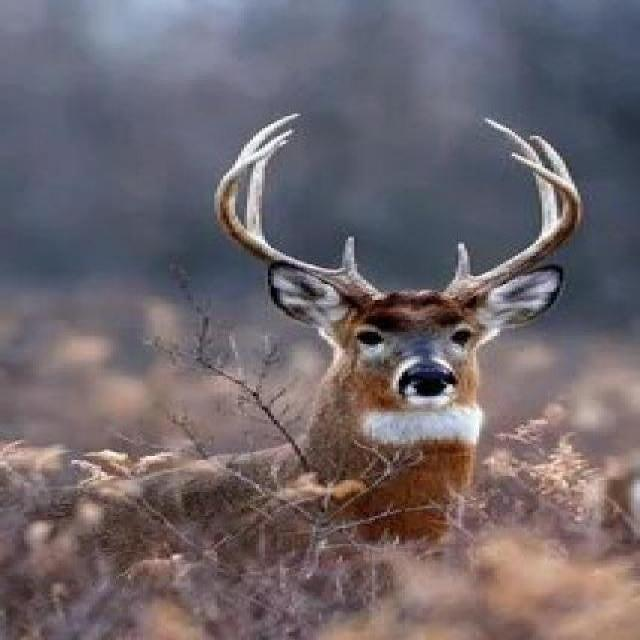deer: (25, 80, 640, 588)
